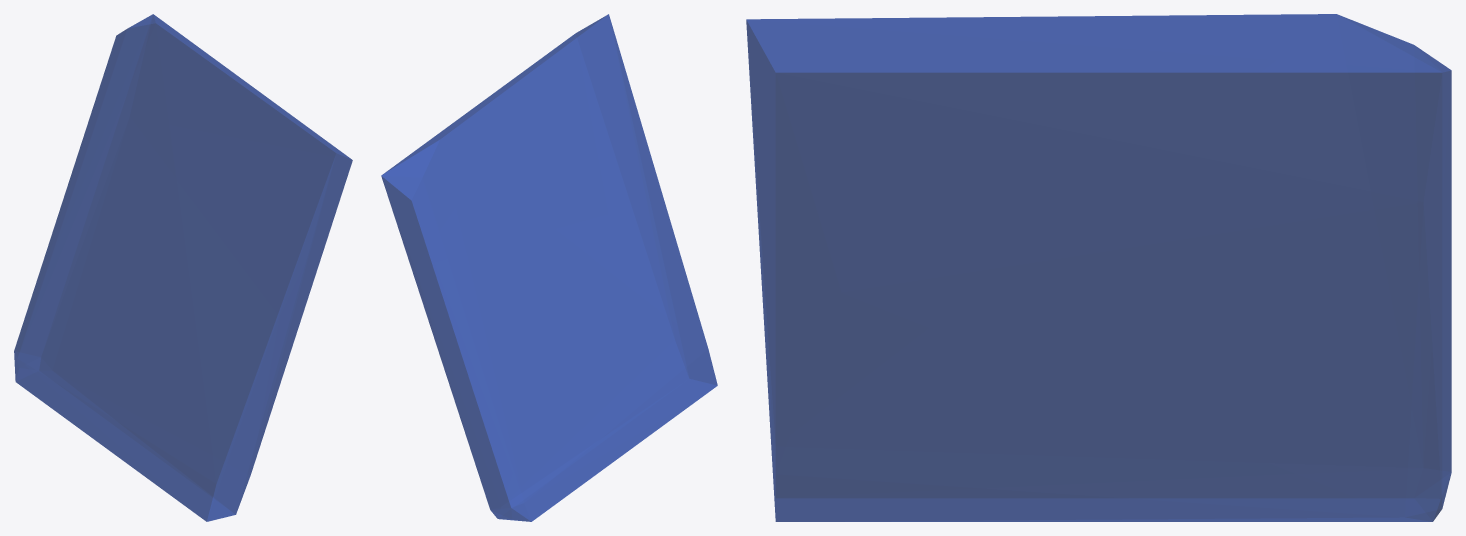
3 renders of one model, left to right at view 1: azimuth 30°, elevation 25°; view 2: azimuth 150°, elevation 25°; view 3: azimuth 270°, elevation 25°, orthographic. The views are drawn at different scales.
Parts seen in each view (by area): view 1: Shape_IndexedFaceSet.019_Shape_IndexedFaceSet.17995; view 2: Shape_IndexedFaceSet.019_Shape_IndexedFaceSet.17995; view 3: Shape_IndexedFaceSet.019_Shape_IndexedFaceSet.17995.
Part boxes in pixels (<box>): Shape_IndexedFaceSet.019_Shape_IndexedFaceSet.17995: <box>14,14,352,521</box>; Shape_IndexedFaceSet.019_Shape_IndexedFaceSet.17995: <box>381,14,717,521</box>; Shape_IndexedFaceSet.019_Shape_IndexedFaceSet.17995: <box>746,14,1451,521</box>.
Size of the model in its own units: 0.228 by 0.5175 by 0.571.
